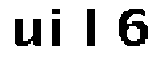6: (115, 6, 151, 52)
i: (48, 5, 65, 49)
l: (81, 4, 99, 51)
u: (11, 14, 43, 50)
